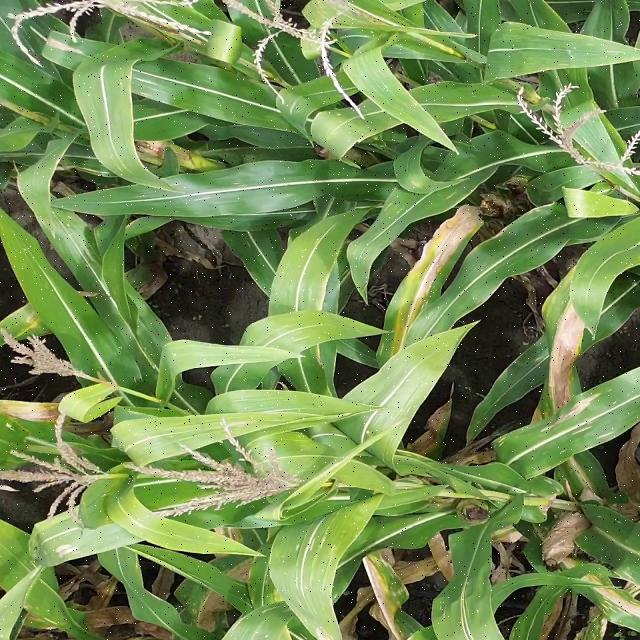gray-leaf-spot: (454, 389, 630, 475), (266, 520, 361, 640), (74, 49, 205, 125)
northern-leaf-blight: (364, 204, 485, 368), (514, 284, 596, 423), (25, 519, 106, 571)
southern-leaf-blight: (44, 211, 124, 295)
